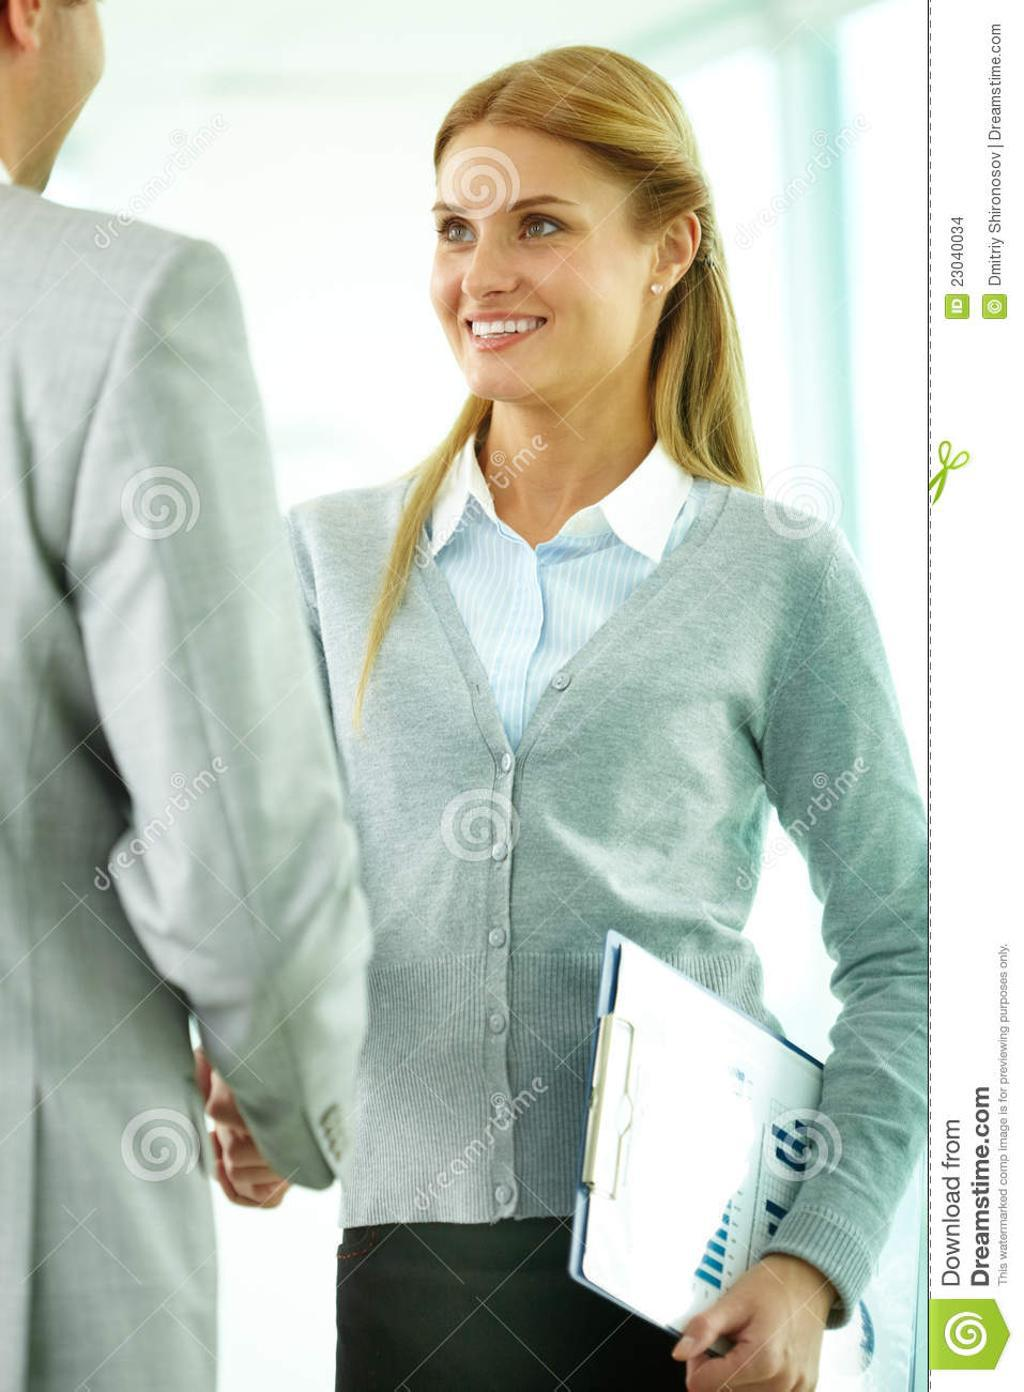face: (441, 142, 634, 400)
